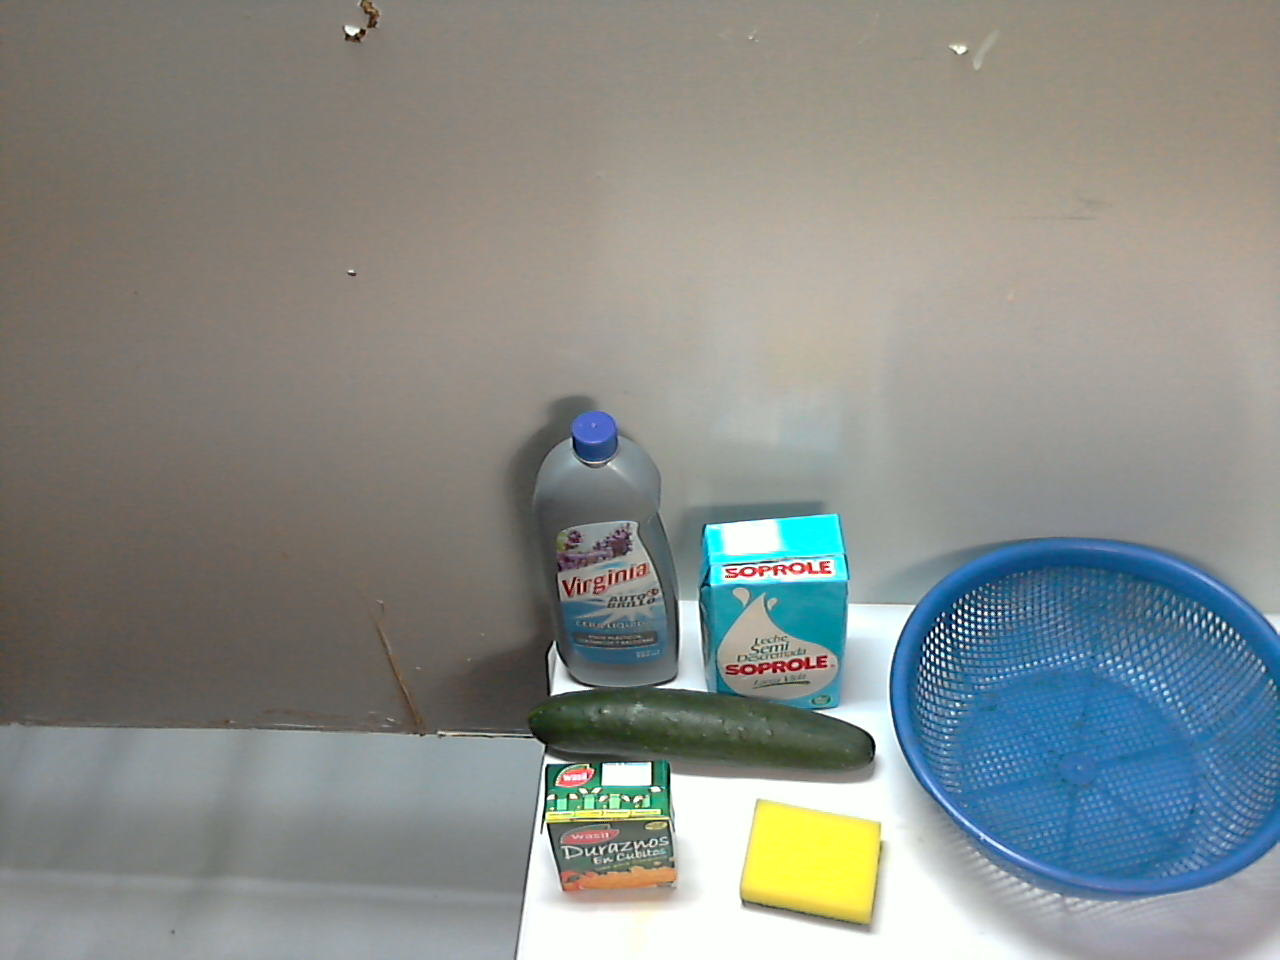cera: (699, 450, 845, 750)
cloro: (516, 486, 677, 739)
colador: (811, 574, 1242, 928)
crema: (692, 695, 791, 835)
limon: (482, 722, 629, 836)
pepino: (513, 841, 904, 951)
